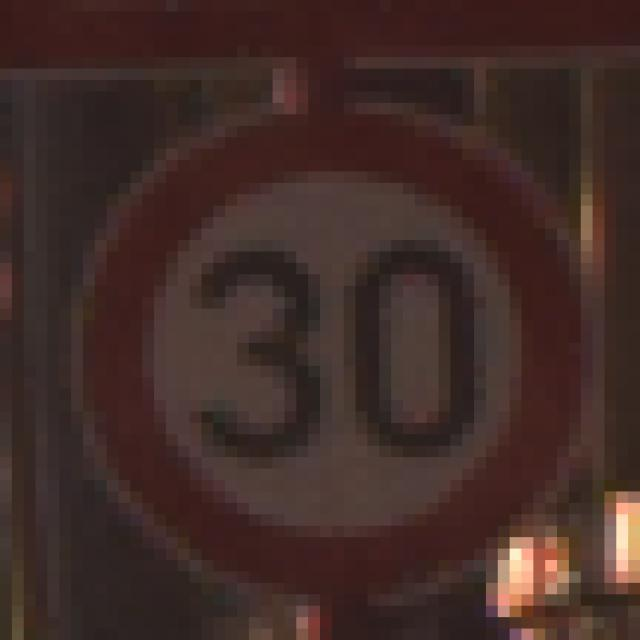Speed Limit -30-: (53, 63, 563, 566)
